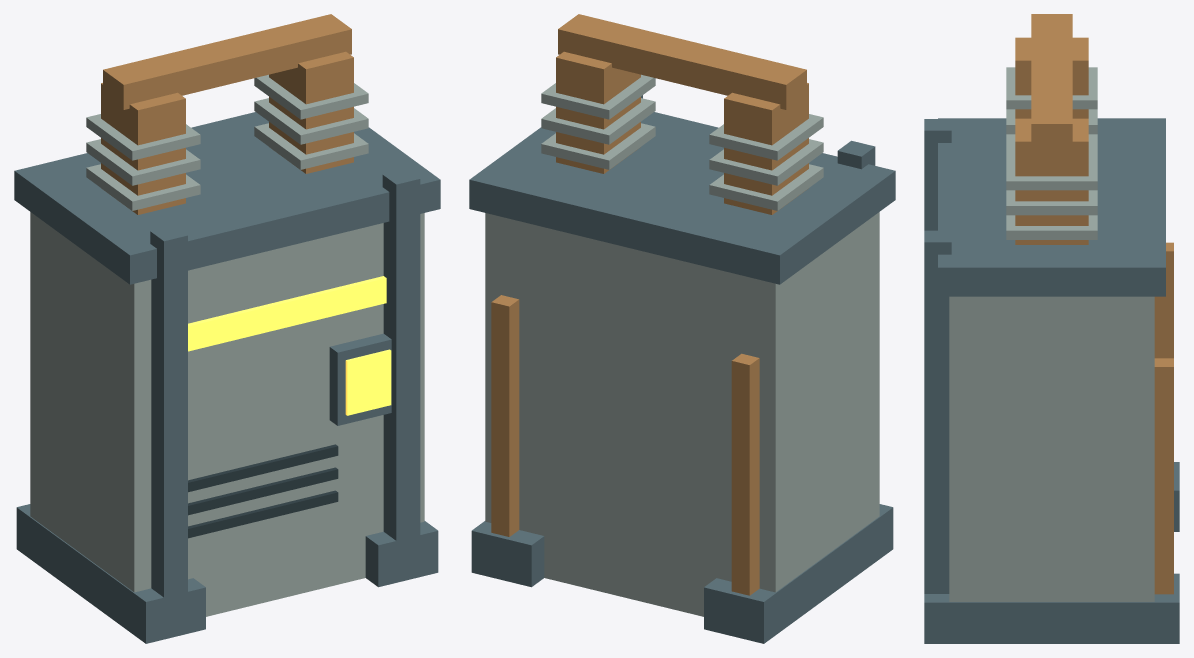
Rendered from capacitor-bank.glb.
3 views of the same model, side by side, from view 1: azimuth 30°, elevation 25°; view 2: azimuth 150°, elevation 25°; view 3: azimuth 270°, elevation 25° (orthographic).
Visible parts, largest first — view 1: Grounded cabinet, Pressure lid, Support-0.58, Support0.58, Conductor, Foot bracket-0.58, Warning strip, Isolator-0.42, Isolator0.42, Foot bracket0.58, Gauge, Gauge rim (+9 smaller); view 2: Grounded cabinet, Pressure lid, Conductor, Foot bracket-0.58, Ground pipe0.6, Ground pipe-0.6, Isolator-0.42, Isolator0.42, Foot bracket0.58, Ceramic rib0.422.03, Ceramic rib-0.422.03, Ceramic rib0.421.91 (+4 smaller); view 3: Grounded cabinet, Pressure lid, Foot bracket0.58, Support0.58, Conductor, Isolator0.42, Ground pipe0.6, Isolator-0.42, Ceramic rib0.422.15, Support-0.58, Ground pipe-0.6, Ceramic rib0.422.03 (+4 smaller).
Part boxes in pixels (x1,y1,x2,y2): Grounded cabinet: [30, 212, 424, 616]; Pressure lid: [14, 112, 440, 284]; Support-0.58: [150, 225, 187, 618]; Support0.58: [382, 168, 420, 540]; Conductor: [103, 14, 351, 109]; Foot bracket-0.58: [16, 504, 205, 643]; Warning strip: [188, 276, 386, 351]; Isolator-0.42: [101, 83, 185, 214]; Isolator0.42: [269, 51, 353, 173]; Foot bracket0.58: [365, 521, 438, 587]; Gauge: [345, 349, 391, 415]; Gauge rim: [329, 333, 391, 425]; Grounded cabinet: [485, 212, 879, 616]; Pressure lid: [469, 112, 895, 284]; Conductor: [558, 14, 806, 109]; Foot bracket-0.58: [704, 504, 893, 643]; Ground pipe0.6: [491, 295, 519, 536]; Ground pipe-0.6: [731, 353, 759, 595]; Isolator-0.42: [724, 83, 808, 214]; Isolator0.42: [556, 51, 640, 173]; Foot bracket0.58: [471, 521, 544, 587]; Ceramic rib0.422.03: [541, 98, 655, 144]; Ceramic rib-0.422.03: [709, 139, 823, 185]; Ceramic rib0.421.91: [541, 123, 655, 169]; Grounded cabinet: [949, 296, 1154, 601]; Pressure lid: [938, 118, 1165, 296]; Foot bracket0.58: [924, 573, 1179, 643]; Support0.58: [924, 230, 951, 593]; Conductor: [1031, 14, 1072, 148]; Isolator0.42: [1015, 118, 1088, 244]; Ground pipe0.6: [1154, 358, 1173, 594]; Isolator-0.42: [1015, 37, 1088, 118]; Ceramic rib0.422.15: [1006, 148, 1097, 190]; Support-0.58: [924, 119, 951, 230]; Ground pipe-0.6: [1154, 242, 1173, 358]; Ceramic rib0.422.03: [1006, 190, 1097, 215].
Size of the model in its own units: 1.55 by 2.44 by 1.12.
